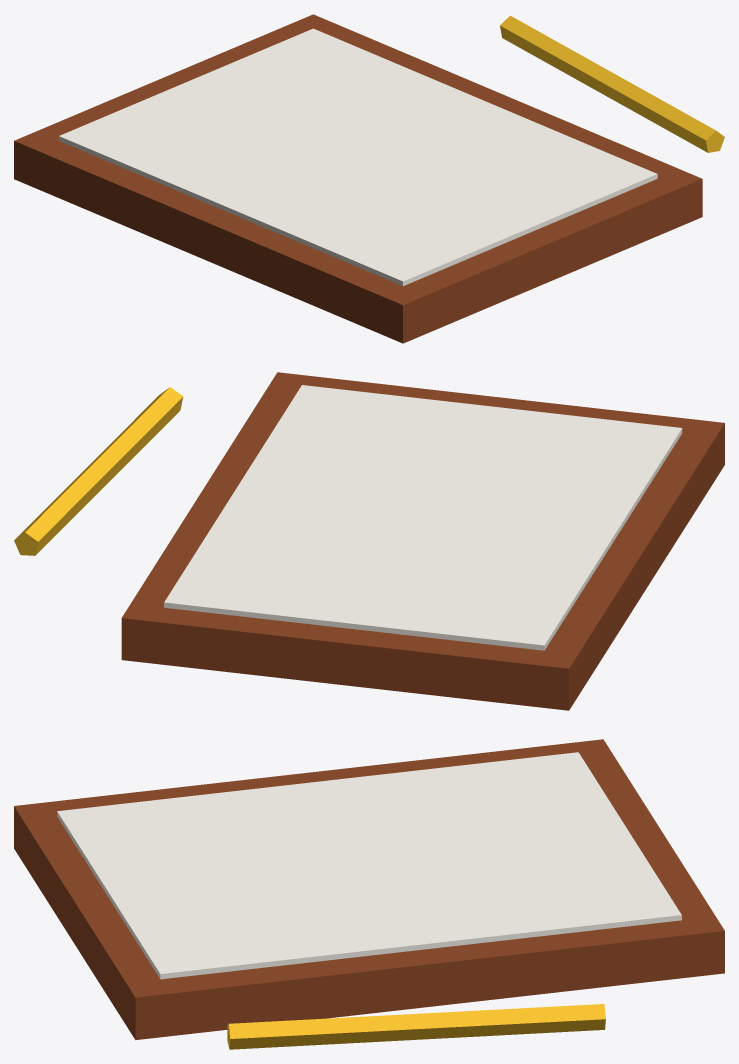
File: station_buffer_ausstattung_1_0.glb
3 renders of one model, top to bottom at view 1: azimuth 30°, elevation 25°; view 2: azimuth 150°, elevation 25°; view 3: azimuth 270°, elevation 25°, orthographic. The views are drawn at different scales.
Visible parts, largest first — view 1: station_buffer_ausstattung_1_0; view 2: station_buffer_ausstattung_1_0; view 3: station_buffer_ausstattung_1_0.
Boxes of the visible parts, x1=… form: station_buffer_ausstattung_1_0: x1=14, y1=14, x2=724, y2=343; station_buffer_ausstattung_1_0: x1=14, y1=372, x2=724, y2=710; station_buffer_ausstattung_1_0: x1=14, y1=739, x2=724, y2=1049.
Bounding box in the file's own units: 0.2961 × 0.0225 × 0.3029.
